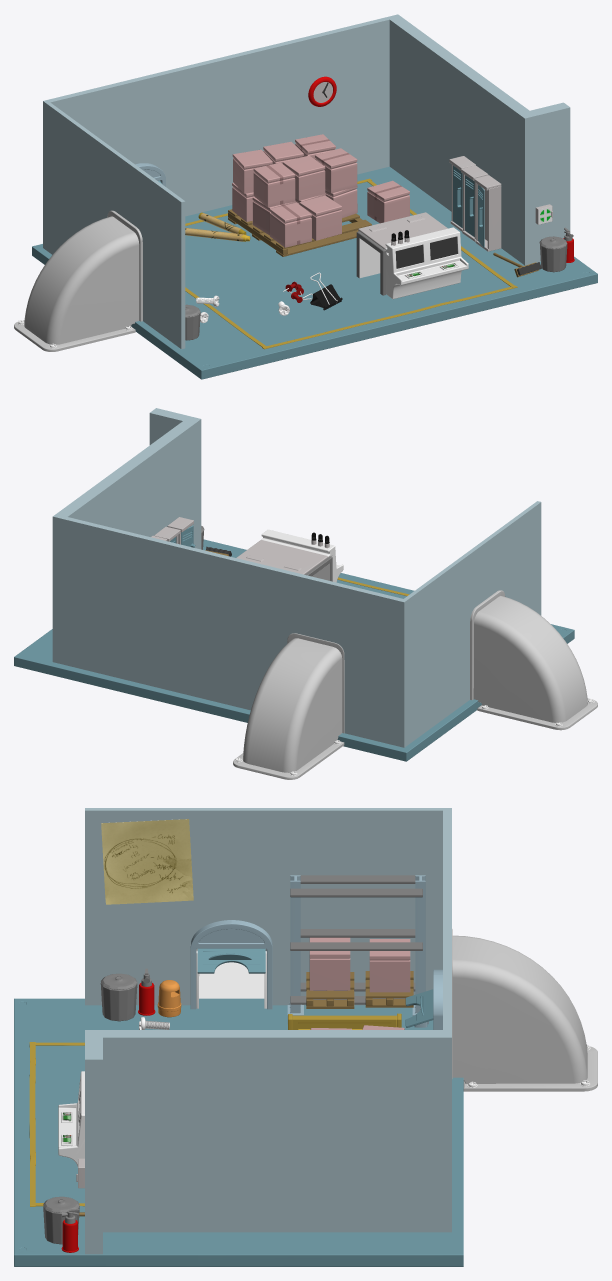
The model's file is mini_diorama_01.glb.
3 views of the same model, one above another, from view 1: azimuth 30°, elevation 25°; view 2: azimuth 150°, elevation 25°; view 3: azimuth 270°, elevation 25° (orthographic). The views are drawn at different scales.
Parts seen in each view (by area): view 1: Walls, Mesh8_Plastic_Blue_0, pTorus5, Body, Box_032, Box_028, Box_035, Box_033, Box_025, Box_024, pCube179, pCube187 (×2) (+13 smaller); view 2: Walls, pTorus5 (×2), Mesh8_Plastic_Blue_0, Body; view 3: Walls, Mesh8_Plastic_Blue_0, pTorus5, pCube244, pCube248, Machine_04_Inlet_Trim_03, pCylinder143 (×2), Box24, Box25, pCylinder96 (×2), Body, pCube195 (+9 smaller).
Boxes of the visible parts, left/top/right/bottom form: Walls: left=43, top=14, right=570, bottom=349; Mesh8_Plastic_Blue_0: left=32, top=166, right=597, bottom=379; pTorus5: left=14, top=210, right=142, bottom=351; Body: left=358, top=212, right=468, bottom=299; Box_032: left=253, top=162, right=295, bottom=207; Box_028: left=269, top=202, right=311, bottom=247; Box_035: left=367, top=180, right=409, bottom=223; Box_033: left=315, top=148, right=357, bottom=193; Box_025: left=282, top=155, right=325, bottom=200; Box_024: left=299, top=195, right=341, bottom=240; pCube179: left=475, top=183, right=501, bottom=251; pCube187 (×2): left=453, top=165, right=474, bottom=236; Walls: left=52, top=408, right=541, bottom=747; pTorus5 (×2): left=233, top=590, right=597, bottom=779; Mesh8_Plastic_Blue_0: left=14, top=539, right=574, bottom=761; Body: left=236, top=529, right=343, bottom=582; Walls: left=85, top=808, right=451, bottom=1254; Mesh8_Plastic_Blue_0: left=14, top=998, right=463, bottom=1266; pTorus5: left=452, top=929, right=597, bottom=1091; pCube244: left=101, top=819, right=193, bottom=904; pCube248: left=190, top=920, right=272, bottom=1009; Machine_04_Inlet_Trim_03: left=196, top=951, right=266, bottom=1008; pCylinder143 (×2): left=197, top=948, right=433, bottom=1027; Box24: left=369, top=939, right=410, bottom=992; Box25: left=309, top=937, right=350, bottom=990; pCylinder96 (×2): left=43, top=982, right=137, bottom=1244; Body: left=58, top=1071, right=84, bottom=1166; pCube195: left=292, top=1015, right=396, bottom=1029.
Bounding box in the file's own units: 0.8242 × 0.2525 × 0.6457.
28 materials, 5 textured.
